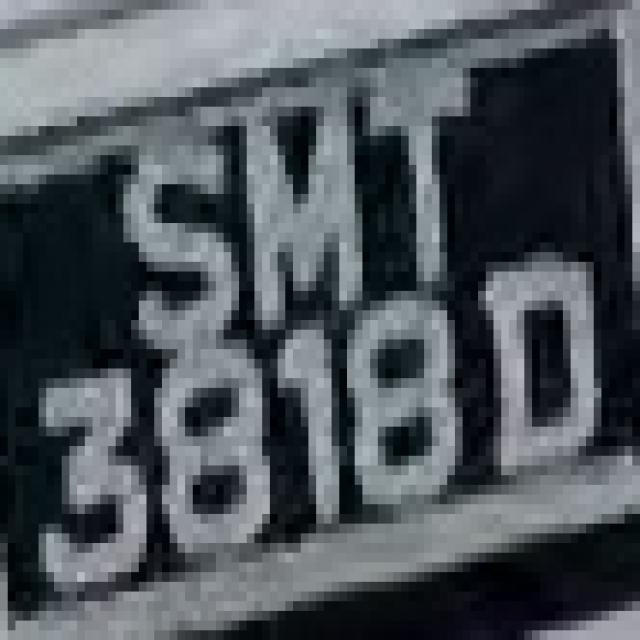1: (278, 291, 362, 572)
3: (15, 349, 146, 621)
8: (147, 330, 286, 582), (332, 272, 471, 524)
D: (478, 232, 609, 494)
M: (232, 116, 362, 320)
S: (116, 106, 239, 358)
T: (347, 39, 509, 291)
